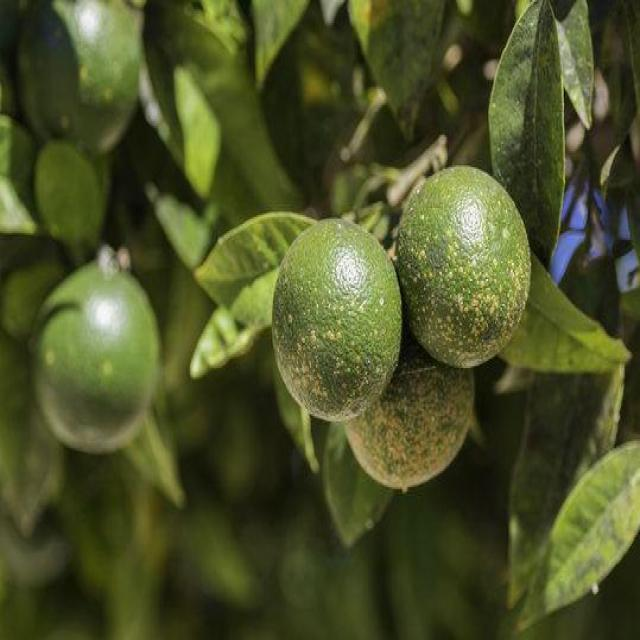Jeruk Belum Matang: (272, 217, 404, 427), (399, 166, 532, 364), (34, 258, 157, 456), (345, 330, 475, 494)
